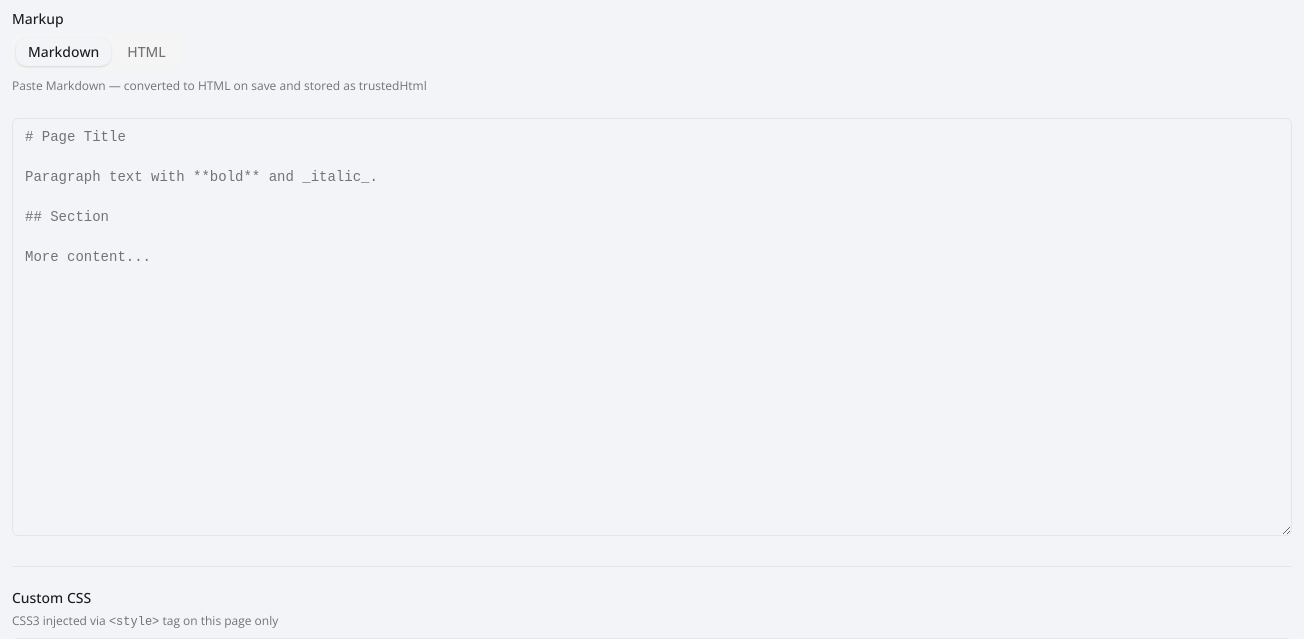
Test: ContentPanel › switches to HTML mode when HTML button is clicked
The image size is (1304, 639).
Click the button "HTML" at (146, 52), box top-left (115, 38), bottom-right (178, 66)
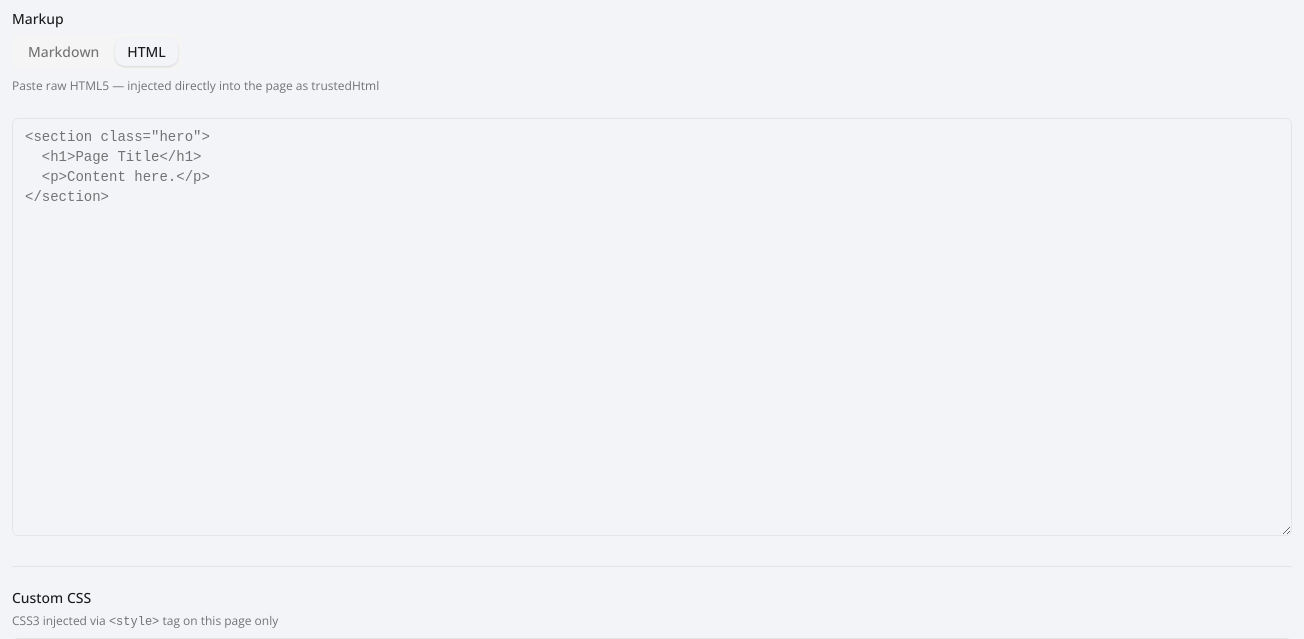
Expected: the text "Paste raw HTML5" is shown, top-left (12, 77), bottom-right (379, 94)
